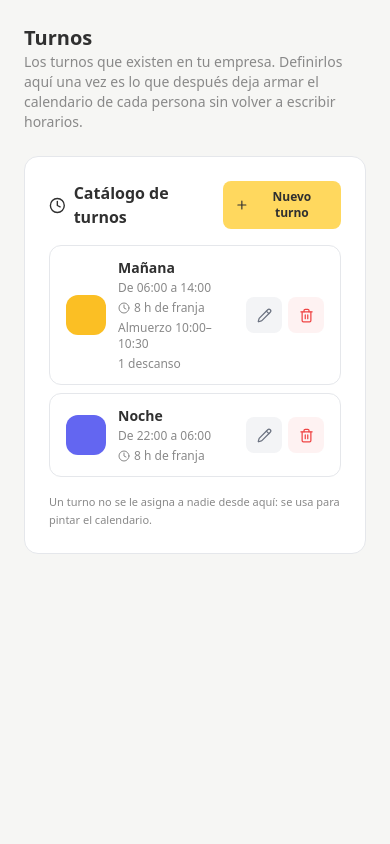
Scenario: crear un turno › el formulario pide nombre y horario
Click the button "Nuevo turno". click: (282, 205)
box: [223,181,341,229]
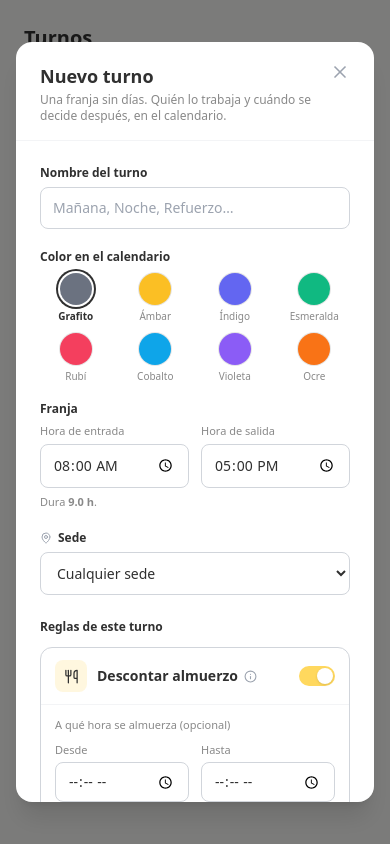
Now the field labelled "Nombre del turno" is shown, box [40,187,350,229]
Now the time field labelled "Hora de entrada" is shown, box [40,444,189,488]
Now the time field labelled "Hora de salida" is shown, box [201,444,350,488]
